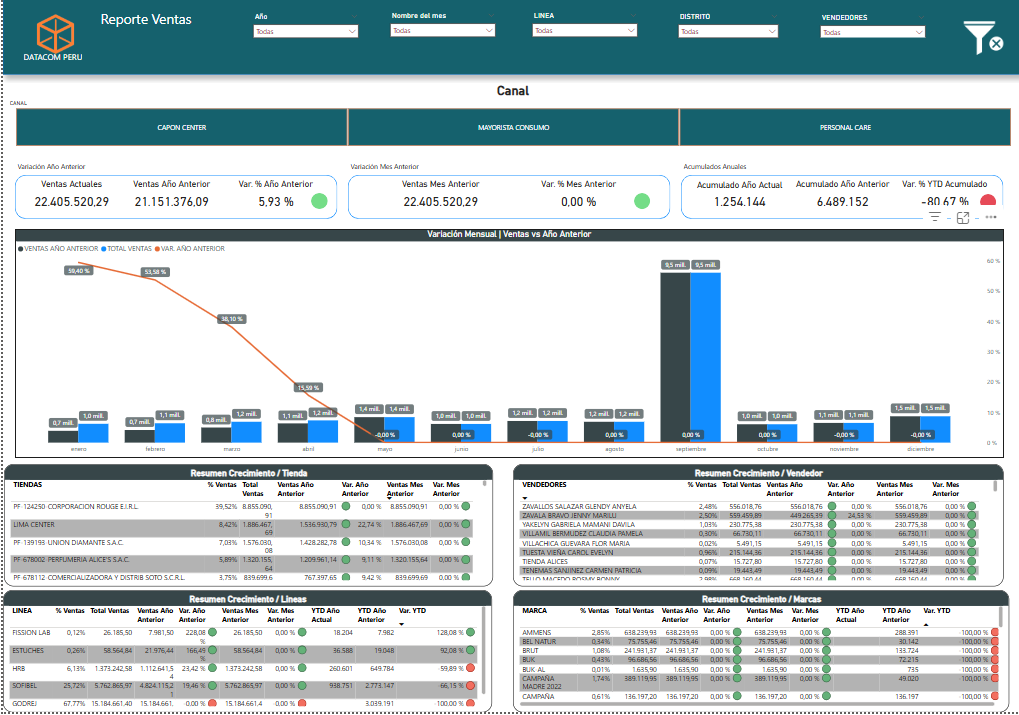

What the dashboard file says about the page in this screenshot:
{"tool":"powerbi","page":{"name":"Página 2","canvas":[2000,1400],"ordinal":0},"visuals":[{"type":"textbox","box":[182.5,26.1,234.6,54.5],"z":0},{"type":"group","id":"g1","title":"Grupo 1","box":[1329.8,314.7,632,116.5],"z":0,"group":"g4"},{"type":"shape","box":[1329.8,345.2,632,86],"z":0,"group":"g1"},{"type":"shape","box":[676.8,345.4,632,86],"z":0,"group":"g2"},{"type":"shape","box":[23.8,345.3,632,86],"z":500,"group":"g3"},{"type":"textbox","box":[22.9,89.6,173.5,40],"z":1000},{"type":"group","id":"g2","title":"Grupo 2","box":[676.8,314.7,632,116.7],"z":1000,"group":"g4"},{"type":"card","title":"Ventas Mes Anterior","fields":{"Values":["_Medidas.VENTAS MES ANTERIOR"]},"box":[756.8,354.4,202,68],"z":1000,"group":"g2"},{"type":"card","title":"Acumulado Año Actual","fields":{"Values":["_Medidas.YTD ACTUAL"]},"box":[1343.8,355.2,202,66],"z":1000,"group":"g1"},{"type":"slicer","title":"Vendedores","fields":{"Values":["Ventas_Impulso.VENDEDORES"]},"box":[1412.2,31.6,305.7,76.9],"z":2000},{"type":"group","id":"g3","title":"Grupo 3","box":[23.8,314.7,632,116.6],"z":2000,"group":"g4"},{"type":"card","title":"Acumulado Año Anterior","fields":{"Values":["_Medidas.YTD AÑO ANTERIOR"]},"box":[1544.8,354.2,202,68],"z":2000,"group":"g1"},{"type":"card","title":"Var. % Mes Anterior","fields":{"Values":["_Medidas.VAR. MES ANTERIOR"]},"box":[1026.8,354.4,202,68],"z":2000,"group":"g2"},{"type":"image","box":[1854.8,14.3,116.7,109.5],"z":3000},{"type":"textbox","box":[676.8,314.7,156,30],"z":3000,"group":"g2"},{"type":"textbox","box":[1329.8,314.7,156,30],"z":3000,"group":"g1"},{"type":"shape","box":[0,0,2000,150],"z":4000},{"type":"card","title":"Var. % YTD Acumulado","fields":{"Values":["_Medidas.VAR. ACUMULADO AÑO ANTERIOR"]},"box":[1745.8,354.2,202,68],"z":4000,"group":"g1"},{"type":"slicer","fields":{"Values":["Calendario.Año"]},"box":[480.8,23.1,226.9,59.6],"z":5000},{"type":"slicer","fields":{"Values":["Calendario.Nombre del mes"]},"box":[748.1,21.2,226.9,59.6],"z":6000},{"type":"card","title":"Ventas Actuales","fields":{"Values":["_Medidas.TOTAL VENTAS"]},"box":[33.8,354.3,202,68],"z":6000,"group":"g3"},{"type":"slicer","fields":{"Values":["Ventas_Impulso.LINEA"]},"box":[1026.9,21.2,226.9,59.6],"z":7000},{"type":"slicer","fields":{"Values":["Ventas_Impulso.DISTRITO"]},"box":[1313.5,23.1,217.3,59.6],"z":8000},{"type":"slicer","fields":{"Values":["Ventas_Impulso.VENDEDORES"]},"box":[1592.3,25,226.9,51.9],"z":9000},{"type":"card","title":"Ventas Año Anterior","fields":{"Values":["_Medidas.VENTAS AÑO ANTERIOR"]},"box":[221.8,354.3,218,68],"z":9000,"group":"g3"},{"type":"card","title":"Var. % Año Anterior","fields":{"Values":["_Medidas.VAR. AÑO ANTERIOR"]},"box":[425.8,354.3,218,68],"z":10000,"group":"g3"},{"type":"textbox","box":[186.5,17.3,201.9,51.9],"z":11000},{"type":"textbox","box":[23.8,314.7,156,30],"z":11000,"group":"g3"},{"type":"textbox","box":[34.6,100,142.3,46.2],"z":12000},{"type":"image","box":[1864.8,24.3,116.7,109.5],"z":13000},{"type":"slicer","title":"Canal","fields":{"Values":["Ventas_Impulso.CANAL"]},"box":[0,166.7,2000,130.2],"z":14000},{"type":"group","id":"g4","title":"Grupo 4","box":[23.8,314.7,1938,116.7],"z":15000},{"type":"shape","box":[604.8,382.5,33.3,31.7],"z":16000},{"type":"shape","box":[1238.1,382.5,31.7,31.7],"z":17000},{"type":"shape","box":[1915.9,384.1,31.7,31.7],"z":18000},{"type":"lineClusteredColumnComboChart","title":"Variación Mensual | Ventas vs Año Anterior","fields":{"Category":["Calendario.Nombre del mes"],"Y":["_Medidas.VENTAS AÑO ANTERIOR","_Medidas.TOTAL VENTAS"],"Y2":["_Medidas.VAR. AÑO ANTERIOR"]},"box":[23.8,452.4,1938.1,449.2],"z":19000},{"type":"tableEx","title":"Resumen Crecimiento / Tienda","fields":{"Values":["Ventas_Impulso.TIENDAS","Divide(_Medidas.TOTAL VENTAS, ScopedEval(_Medidas.TOTAL VENTAS, []))","_Medidas.TOTAL VENTAS","_Medidas.VENTAS AÑO ANTERIOR","_Medidas.VAR. AÑO ANTERIOR","_Medidas.VENTAS MES ANTERIOR","_Medidas.VAR. MES ANTERIOR"]},"box":[1.6,914.3,958.7,239.7],"z":20000},{"type":"tableEx","title":"Resumen Crecimiento / Vendedor","fields":{"Values":["Ventas_Impulso.VENDEDORES","Divide(_Medidas.TOTAL VENTAS, ScopedEval(_Medidas.TOTAL VENTAS, []))","_Medidas.TOTAL VENTAS","_Medidas.VENTAS AÑO ANTERIOR","_Medidas.VAR. AÑO ANTERIOR","_Medidas.VENTAS MES ANTERIOR","_Medidas.VAR. MES ANTERIOR"]},"box":[1000,914.3,961.9,239.7],"z":21000},{"type":"tableEx","title":"Resumen Crecimiento / Lineas","fields":{"Values":["Ventas_Impulso.LINEA","Divide(_Medidas.TOTAL VENTAS, ScopedEval(_Medidas.TOTAL VENTAS, []))","_Medidas.TOTAL VENTAS","_Medidas.VENTAS AÑO ANTERIOR","_Medidas.VAR. AÑO ANTERIOR","_Medidas.VENTAS MES ANTERIOR","_Medidas.VAR. MES ANTERIOR","_Medidas.YTD AÑO ACTUAL","_Medidas.YTD AÑO ANTERIOR","_Medidas.VAR. ACUMULADO AÑO ANTERIOR"]},"box":[0,1160.3,958.7,239.7],"z":22000},{"type":"tableEx","title":"Resumen Crecimiento / Marcas","fields":{"Values":["Ventas_Impulso.MARCA","Divide(_Medidas.TOTAL VENTAS, ScopedEval(_Medidas.TOTAL VENTAS, []))","_Medidas.TOTAL VENTAS","_Medidas.VENTAS AÑO ANTERIOR","_Medidas.VAR. AÑO ANTERIOR","_Medidas.VENTAS MES ANTERIOR","_Medidas.VAR. MES ANTERIOR","_Medidas.YTD AÑO ACTUAL","_Medidas.YTD AÑO ANTERIOR","_Medidas.VAR. ACUMULADO AÑO ANTERIOR"]},"box":[1000,1160.3,973,239.7],"z":23000},{"type":"htmlContent443BE3AD55E043BF878BED274D3A6855","fields":{"content":["_Medidas.Measure"]},"box":[0,0,155.4,147.7],"z":24000}]}

Visuals, with their boxes in screenshot pixels (x1, y1, x2, y2), scaled from the page's 2000x1400 canvas onto the 1019x715 screenshot:
textbox: [left=93, top=13, right=213, bottom=41]
"Grupo 1" group: [left=678, top=161, right=1000, bottom=220]
shape: [left=678, top=176, right=1000, bottom=220]
shape: [left=345, top=176, right=667, bottom=220]
shape: [left=12, top=176, right=334, bottom=220]
textbox: [left=12, top=46, right=100, bottom=66]
"Grupo 2" group: [left=345, top=161, right=667, bottom=220]
"Ventas Mes Anterior" card: [left=386, top=181, right=489, bottom=216]
"Acumulado Año Actual" card: [left=685, top=181, right=788, bottom=215]
"Vendedores" slicer: [left=720, top=16, right=875, bottom=55]
"Grupo 3" group: [left=12, top=161, right=334, bottom=220]
"Acumulado Año Anterior" card: [left=787, top=181, right=890, bottom=216]
"Var. % Mes Anterior" card: [left=523, top=181, right=626, bottom=216]
image: [left=945, top=7, right=1004, bottom=63]
textbox: [left=345, top=161, right=424, bottom=176]
textbox: [left=678, top=161, right=757, bottom=176]
shape: [left=0, top=0, right=1018, bottom=77]
"Var. % YTD Acumulado" card: [left=889, top=181, right=992, bottom=216]
slicer - Calendario.Año: [left=245, top=12, right=361, bottom=42]
slicer - Calendario.Nombre del mes: [left=381, top=11, right=497, bottom=41]
"Ventas Actuales" card: [left=17, top=181, right=120, bottom=216]
slicer - Ventas_Impulso.LINEA: [left=523, top=11, right=639, bottom=41]
slicer - Ventas_Impulso.DISTRITO: [left=669, top=12, right=780, bottom=42]
slicer - Ventas_Impulso.VENDEDORES: [left=811, top=13, right=927, bottom=39]
"Ventas Año Anterior" card: [left=113, top=181, right=224, bottom=216]
"Var. % Año Anterior" card: [left=217, top=181, right=328, bottom=216]
textbox: [left=95, top=9, right=198, bottom=35]
textbox: [left=12, top=161, right=92, bottom=176]
textbox: [left=18, top=51, right=90, bottom=75]
image: [left=950, top=12, right=1010, bottom=68]
"Canal" slicer: [left=0, top=85, right=1018, bottom=152]
"Grupo 4" group: [left=12, top=161, right=1000, bottom=220]
shape: [left=308, top=195, right=325, bottom=212]
shape: [left=631, top=195, right=647, bottom=212]
shape: [left=976, top=196, right=992, bottom=212]
"Variación Mensual | Ventas vs Año Anterior" lineClusteredColumnComboChart: [left=12, top=231, right=1000, bottom=460]
"Resumen Crecimiento / Tienda" tableEx: [left=1, top=467, right=489, bottom=589]
"Resumen Crecimiento / Vendedor" tableEx: [left=509, top=467, right=1000, bottom=589]
"Resumen Crecimiento / Lineas" tableEx: [left=0, top=593, right=488, bottom=714]
"Resumen Crecimiento / Marcas" tableEx: [left=509, top=593, right=1005, bottom=714]
htmlContent443BE3AD55E043BF878BED274D3A6855 - _Medidas.Measure: [left=0, top=0, right=79, bottom=75]
